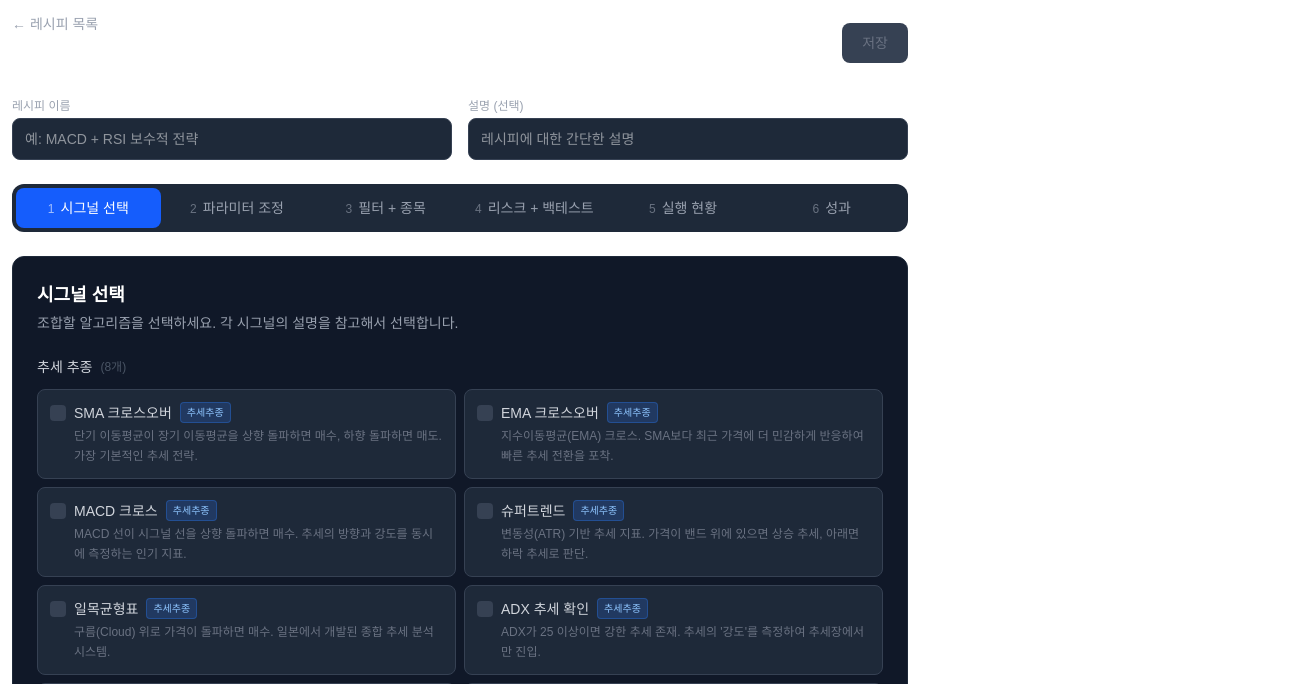
RecipeBuilderPage › navigates between steps
This screenshot has width=1292, height=684.
Click the button "2파라미터 조정" at {"x": 237, "y": 208}, box [165,188,309,228]
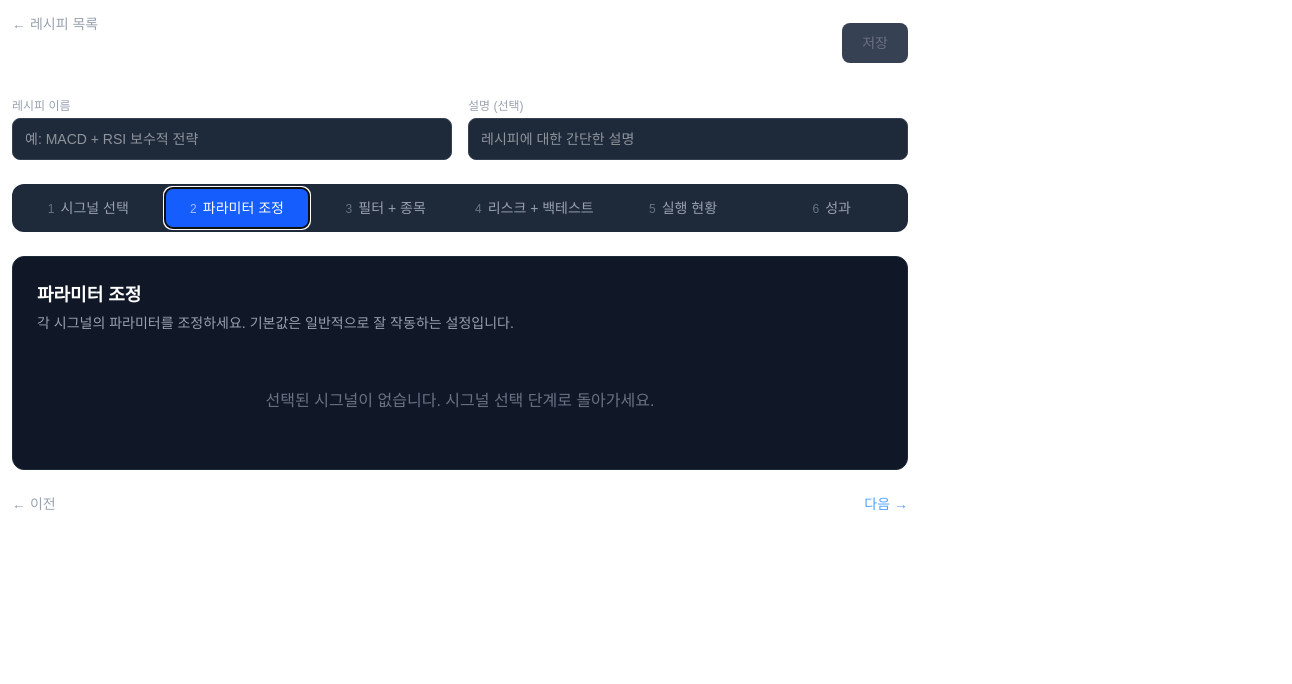
Now the text "선택된 시그널이 없습니다. 시그널 선택 단계로 돌아가세요." is shown, box [266,392,654,409]
// Click step 3
Click the button "3필터 + 종목" at {"x": 386, "y": 208}, box [313,188,458,228]
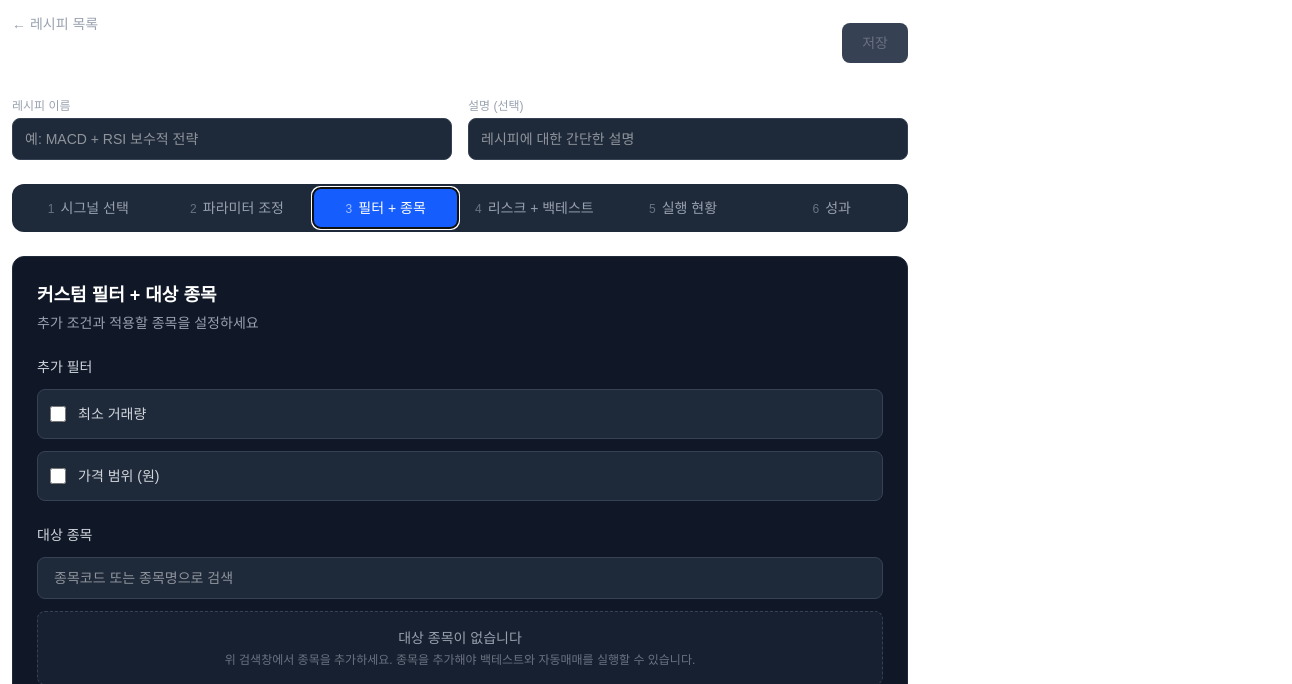
Now the heading "커스텀 필터 + 대상 종목" is shown, box [37,285,217,305]
// Click step 4
Click the button "4리스크 + 백테스트" at {"x": 534, "y": 208}, box [462,188,607,228]
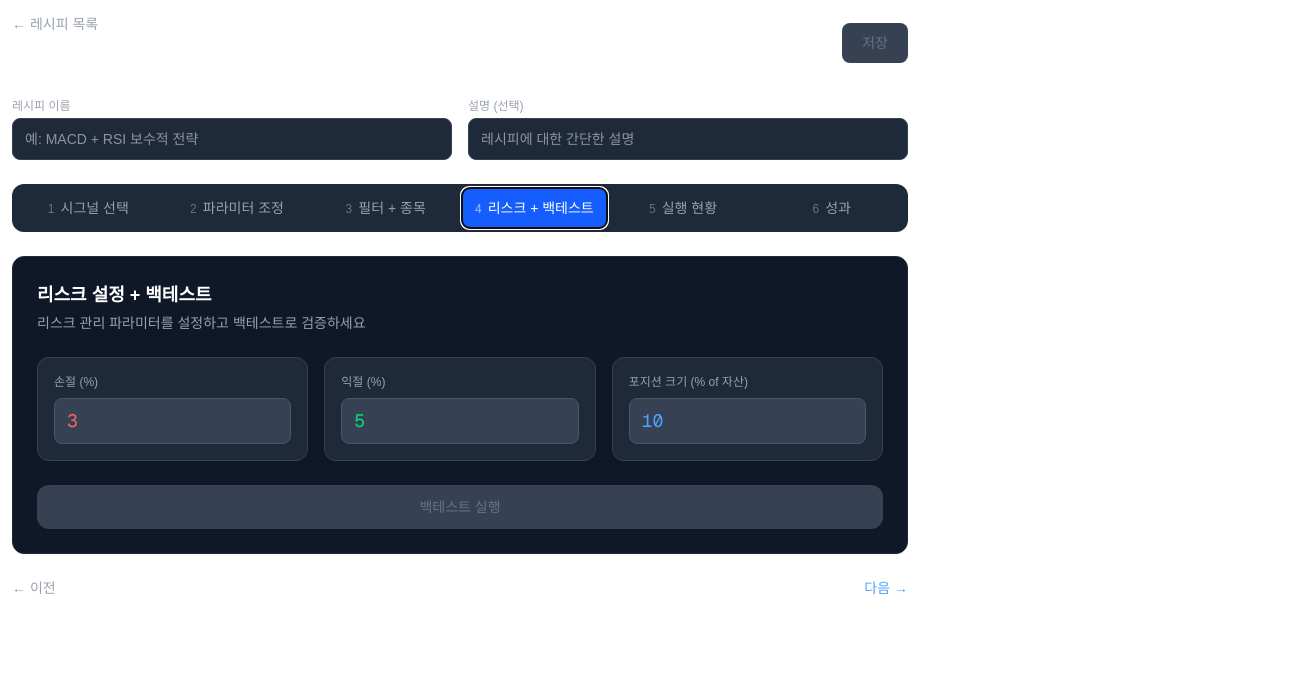
Now the heading "리스크 설정 + 백테스트" is shown, box [37,285,212,305]
